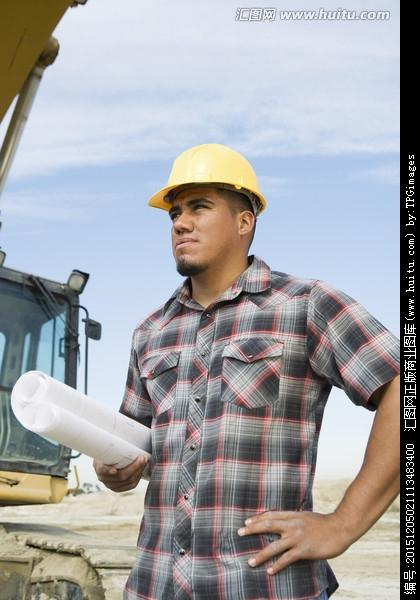helmet: (144, 143, 267, 212)
no_wear: (136, 289, 318, 588)
